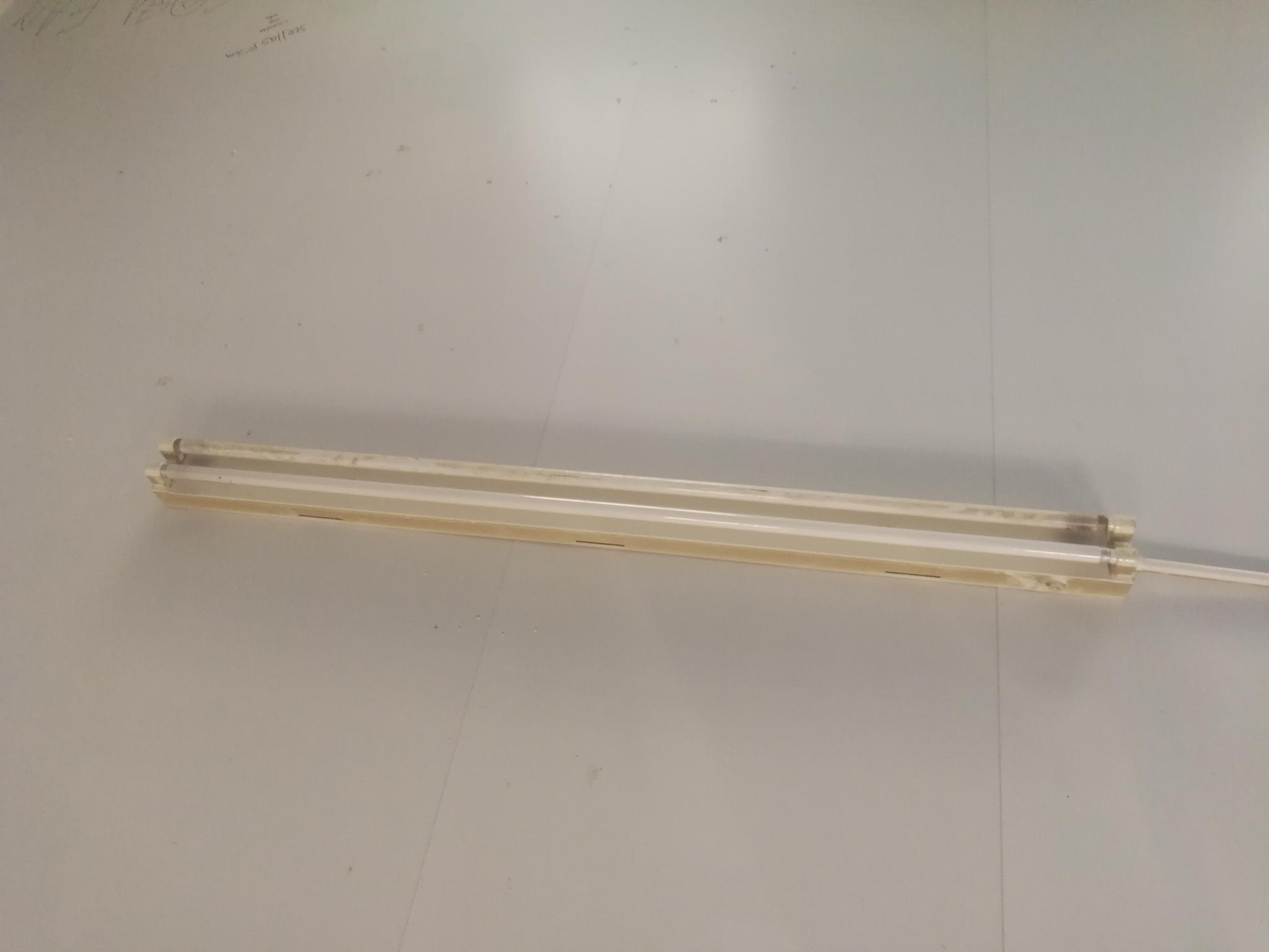light: (144, 433, 1140, 600)
